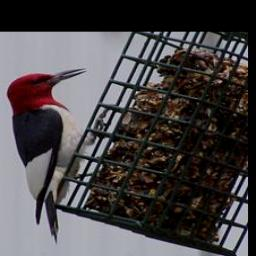Woodpecker: (5, 67, 109, 243)
